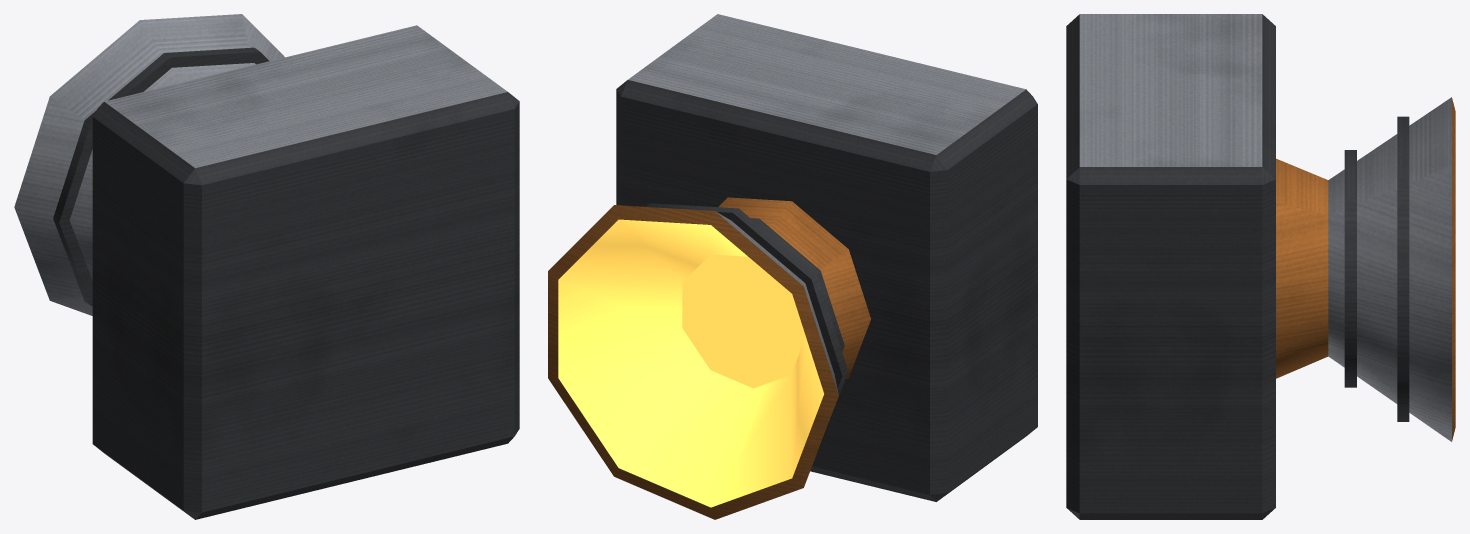
Rendered from R4X_Booster_LOD1.glb.
The picture shows the model from 3 angles, left to right: view 1: azimuth 30°, elevation 25°; view 2: azimuth 150°, elevation 25°; view 3: azimuth 270°, elevation 25°; orthographic projection.
Visible parts, largest first — view 1: R4X_Booster_LOD1; view 2: R4X_Booster_LOD1; view 3: R4X_Booster_LOD1.
Boxes of the visible parts, bbox=[...] form: R4X_Booster_LOD1: bbox=[14, 14, 519, 519]; R4X_Booster_LOD1: bbox=[548, 14, 1037, 519]; R4X_Booster_LOD1: bbox=[1066, 14, 1455, 519].
Size of the model in its own units: 0.52 by 0.52 by 0.52.
4 materials, 3 textured.
